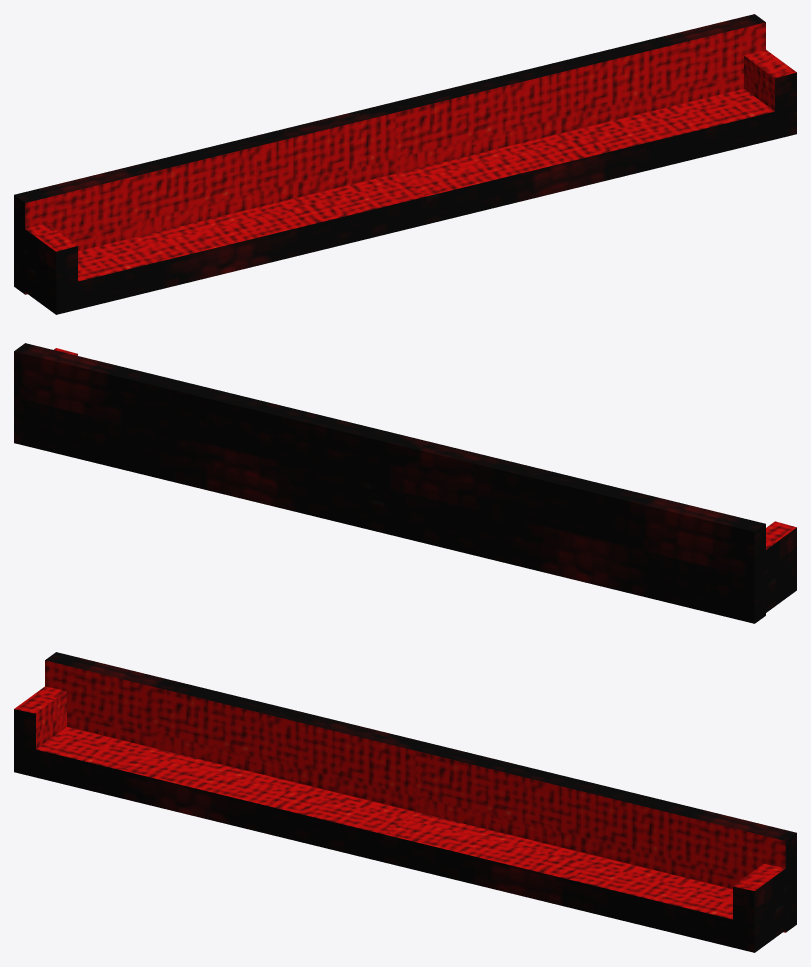
Rendered from MovBench.glb.
3 views of the same model, one above another, from view 1: azimuth 30°, elevation 25°; view 2: azimuth 150°, elevation 25°; view 3: azimuth 330°, elevation 25° (orthographic).
Parts seen in each view (by area): view 1: MovBench; view 2: MovBench; view 3: MovBench.
Boxes of the visible parts, x1,y1,x2,y2 form: MovBench: [14, 14, 796, 314]; MovBench: [14, 343, 796, 623]; MovBench: [14, 652, 796, 952].
Size of the model in its own units: 304 by 36 by 30.
Materials: 2 (2 with a texture image).
